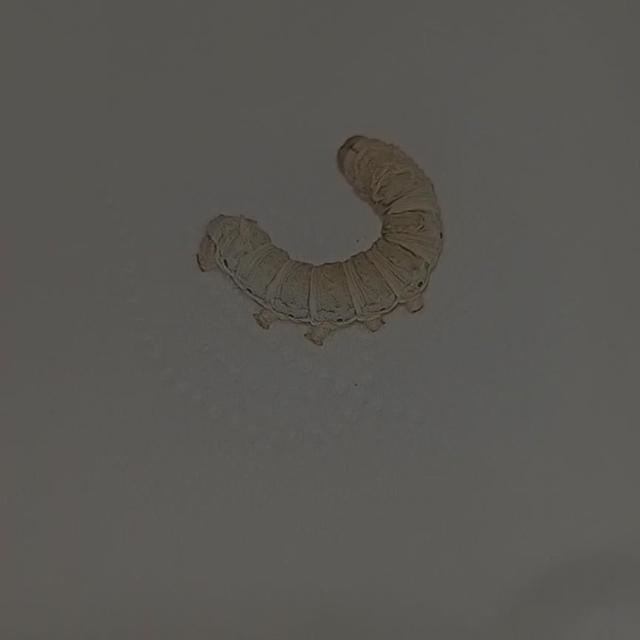Healthy: (169, 110, 461, 361)
